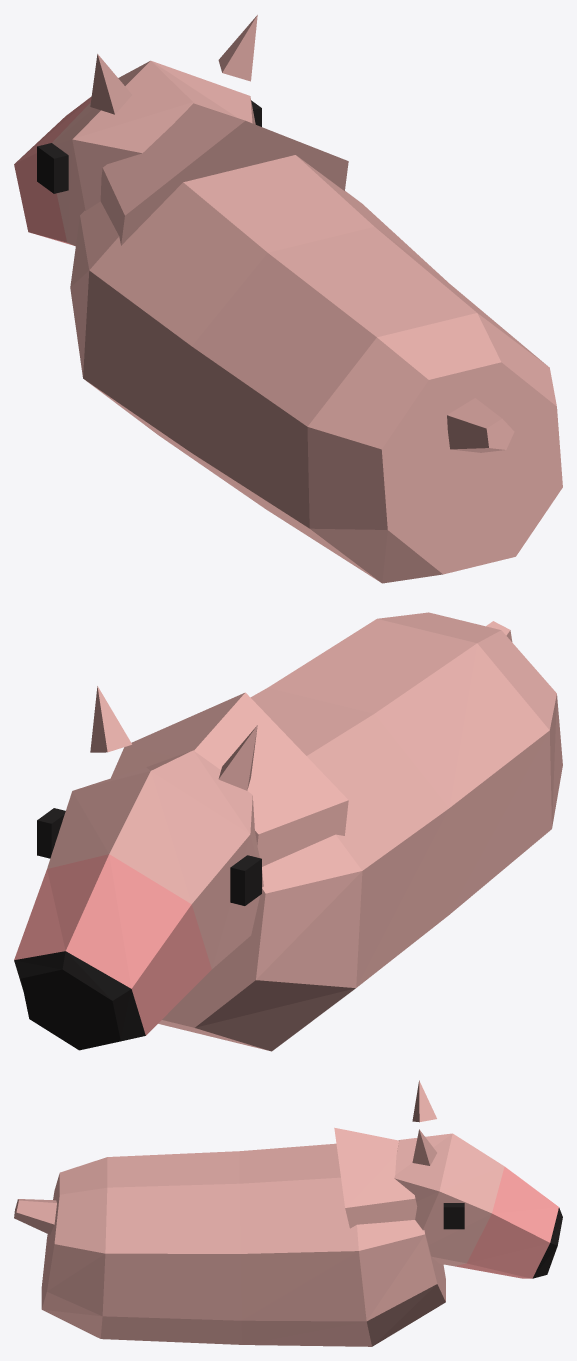
Rendered from animal_pig.obj.
3 renders of one model, top to bottom at view 1: azimuth 30°, elevation 25°; view 2: azimuth 150°, elevation 25°; view 3: azimuth 270°, elevation 25°, orthographic. The views are drawn at different scales.
Parts seen in each view (by area): view 1: animal_pig; view 2: animal_pig; view 3: animal_pig.
Part boxes in pixels (x1=…): animal_pig: x1=14, y1=15, x2=562, y2=583; animal_pig: x1=14, y1=612, x2=562, y2=1051; animal_pig: x1=14, y1=1080, x2=562, y2=1346.
Size of the model in its own units: 0.4144 by 0.5221 by 1.15.
